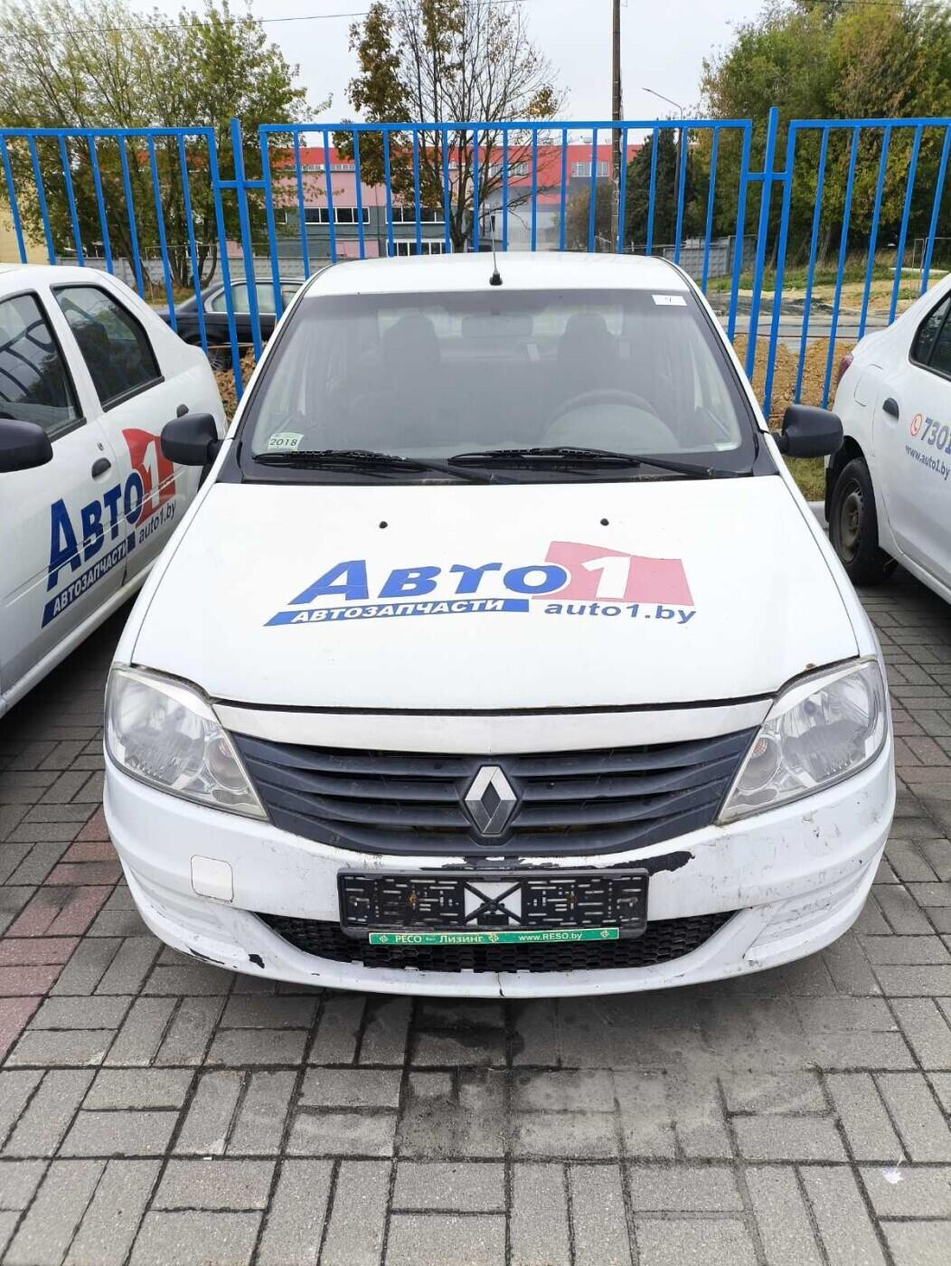Logan_2008-2015: (110, 242, 902, 1009)
